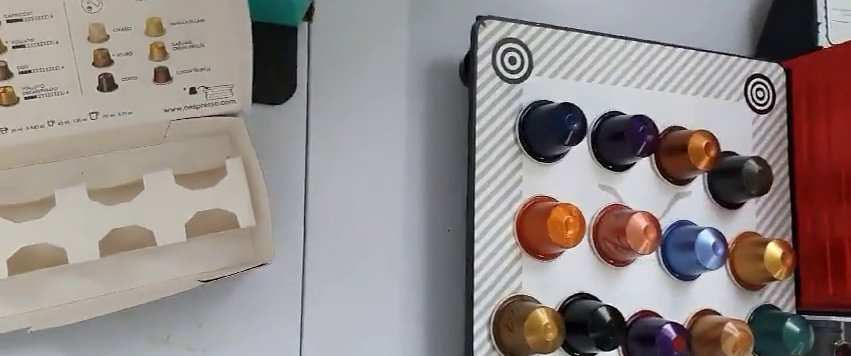capsule_1: (513, 95, 586, 164)
capsule_10: (554, 288, 624, 356)
capsule_11: (615, 304, 688, 356)
capsule_12: (681, 309, 752, 356)
capsule_13: (741, 302, 812, 356)
capsule_2: (590, 109, 660, 173)
capsule_3: (650, 124, 722, 187)
capsule_4: (707, 147, 777, 211)
capsule_5: (513, 192, 586, 262)
capsule_6: (588, 199, 662, 266)
capsule_7: (657, 217, 727, 280)
capsule_8: (726, 229, 793, 292)
capsule_9: (489, 293, 563, 355)
